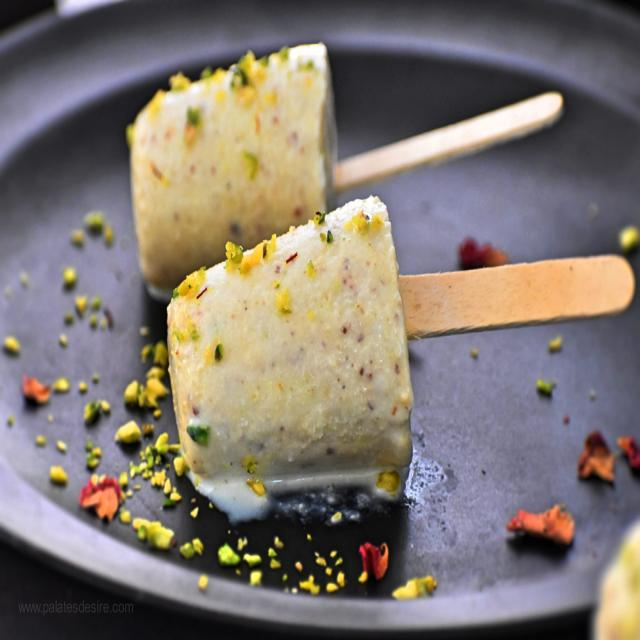kulfi: (164, 187, 428, 539)
